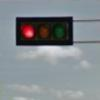traffic lights: (14, 16, 74, 45)
